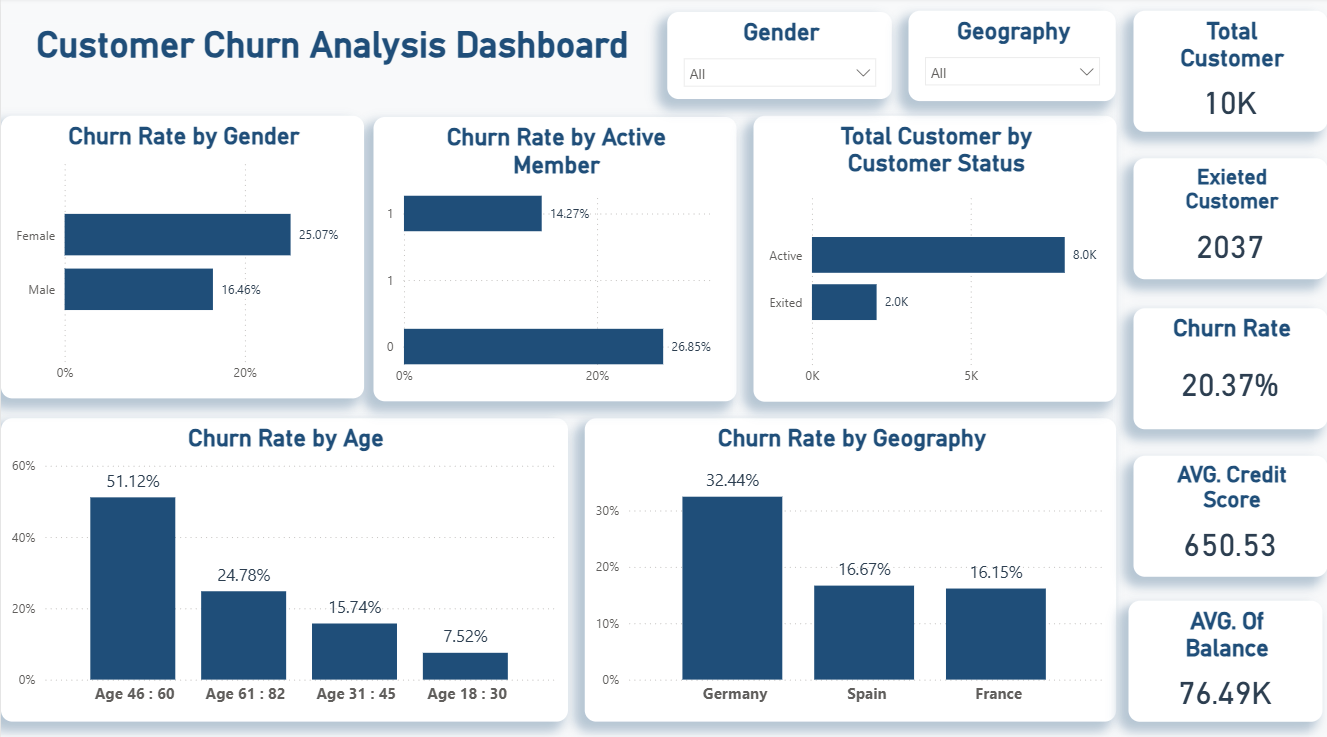

What the dashboard file says about the page in this screenshot:
{"tool":"powerbi","page":{"name":"Page 1","canvas":[1280,720],"ordinal":0},"visuals":[{"type":"card","title":"Total Customer","fields":{"Values":["Customer ID.Total Customer"]},"box":[1092.9,12.9,187.1,117.1],"z":0},{"type":"card","title":"Exieted Customer","fields":{"Values":["Customer ID.Exietd Customer"]},"box":[1092.9,155.7,187.1,117.1],"z":1000},{"type":"card","title":"Churn Rate","fields":{"Values":["Customer ID.Churn Rate"]},"box":[1092.9,300,187.1,117.1],"z":2000},{"type":"columnChart","fields":{"Category":["Customer ID.Geography"],"Y":["Customer ID.Churn Rate"]},"box":[562.9,407.1,512.9,292.9],"z":3000},{"type":"clusteredColumnChart","fields":{"Y":["Customer ID.Churn Rate"],"Category":["Customer ID.Age 2"]},"box":[0,407.1,547.1,292.9],"z":4000},{"type":"clusteredBarChart","title":"Churn Rate by Active Member","fields":{"Category":["Customer ID.IsActiveMember"],"Y":["Customer ID.Churn Rate"]},"box":[360,115.7,350,274.3],"z":5000},{"type":"card","title":"AVG. Of Balance","fields":{"Values":["Avg(Customer ID.Balance)"]},"box":[1088.6,582.9,187.1,117.1],"z":6000},{"type":"card","title":"AVG. Credit Score","fields":{"Values":["Avg(Customer ID.CreditScore)"]},"box":[1092.9,442.9,187.1,117.1],"z":7000},{"type":"textbox","title":"Customer Churn Analysis Dashboard","box":[0,25.7,640,72.9],"z":8000},{"type":"barChart","fields":{"Category":["Customer ID.Gender"],"Y":["Customer ID.Churn Rate"]},"box":[0,114.3,350,272.9],"z":9000},{"type":"barChart","fields":{"Category":["Customer ID.Customer Status"],"Y":["Customer ID.Total Customer"]},"box":[725.7,114.3,350,275.7],"z":10000},{"type":"slicer","title":"Gender","fields":{"Values":["Customer ID.Gender"]},"box":[642.9,14.3,217.1,84.3],"z":11000},{"type":"slicer","title":"Geography","fields":{"Values":["Customer ID.Geography"]},"box":[875.7,12.9,200,87.1],"z":12000}]}

Visuals, with their boxes in screenshot pixels (x1, y1, x2, y2), scaled from the page's 1280x720 canvas onto the 1327x737 screenshot:
"Total Customer" card: locate(1133, 13, 1326, 133)
"Exieted Customer" card: locate(1133, 159, 1326, 279)
"Churn Rate" card: locate(1133, 307, 1326, 427)
columnChart - Customer ID.Geography x Customer ID.Churn Rate: locate(584, 417, 1115, 717)
clusteredColumnChart - Customer ID.Churn Rate x Customer ID.Age 2: locate(0, 417, 567, 717)
"Churn Rate by Active Member" clusteredBarChart: locate(373, 118, 736, 399)
"AVG. Of Balance" card: locate(1129, 597, 1323, 717)
"AVG. Credit Score" card: locate(1133, 453, 1326, 573)
"Customer Churn Analysis Dashboard" textbox: locate(0, 26, 664, 101)
barChart - Customer ID.Gender x Customer ID.Churn Rate: locate(0, 117, 363, 396)
barChart - Customer ID.Customer Status x Customer ID.Total Customer: locate(752, 117, 1115, 399)
"Gender" slicer: locate(667, 15, 892, 101)
"Geography" slicer: locate(908, 13, 1115, 102)
